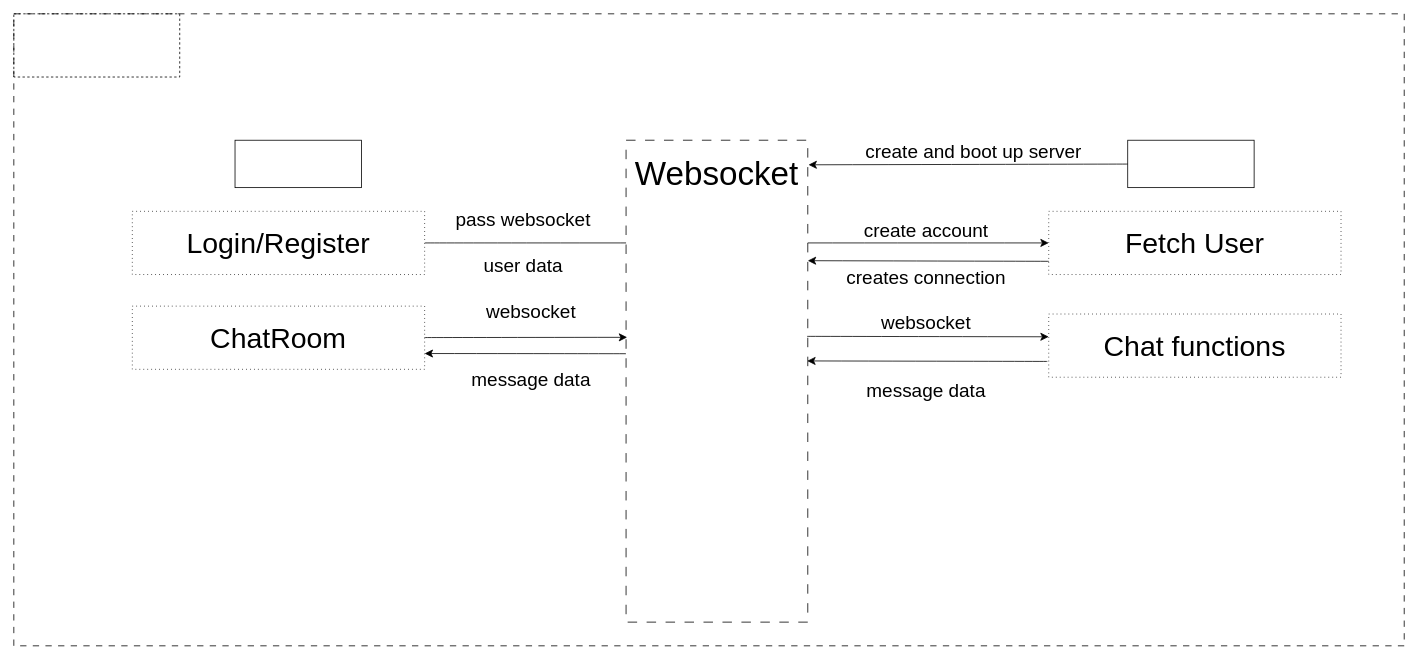
The diagram is 1418 pixels wide and 660 high, and some of its shapes have lost their labels. Each missing label, with the box of its shape:
Backend: (1127, 139, 1254, 188)
Chat App: (13, 13, 180, 77)
Frontend: (234, 139, 361, 188)
